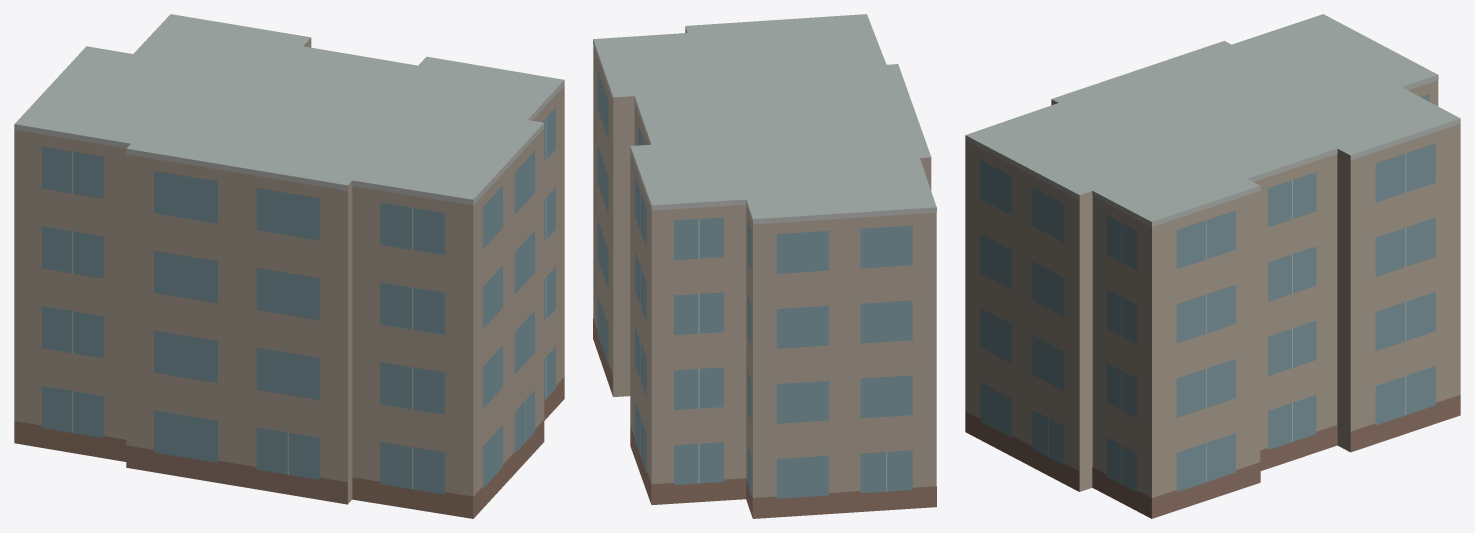
The model's file is survey-upis-32646872.glb.
The picture shows the model from 3 angles, left to right: view 1: azimuth 30°, elevation 25°; view 2: azimuth 150°, elevation 25°; view 3: azimuth 270°, elevation 25°; orthographic projection. The views are drawn at different scales.
Visible parts, largest first — view 1: survey-upis-32646872.tmp; view 2: survey-upis-32646872.tmp; view 3: survey-upis-32646872.tmp.
Boxes of the visible parts, x1,y1,x2,y2 form: survey-upis-32646872.tmp: (14,14,564,518); survey-upis-32646872.tmp: (593,14,936,518); survey-upis-32646872.tmp: (965,14,1460,518).
Bounding box in the file's own units: 20.74 × 13.8 × 20.87.
